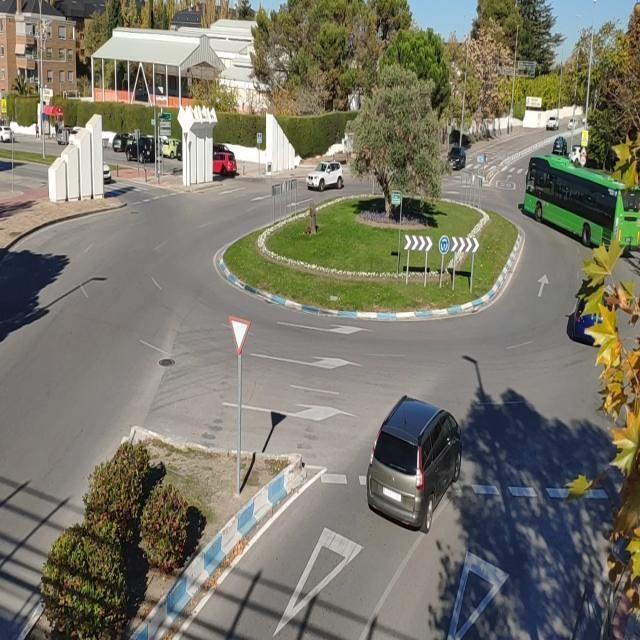Bus: (521, 154, 640, 251)
Car: (365, 396, 464, 534), (306, 162, 344, 191), (125, 136, 163, 162), (214, 151, 238, 176), (113, 132, 135, 152), (448, 146, 466, 170), (162, 138, 181, 159), (552, 135, 568, 154), (56, 127, 72, 145), (568, 146, 581, 166), (0, 125, 15, 142), (103, 160, 112, 185), (212, 143, 232, 154), (546, 116, 560, 130), (567, 118, 578, 130), (176, 141, 182, 161)
